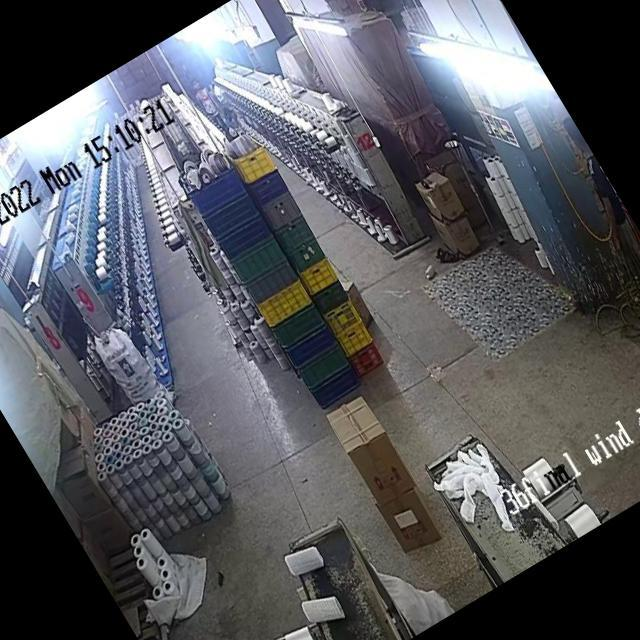person: (190, 76, 232, 131), (229, 106, 256, 138), (223, 111, 246, 137)
